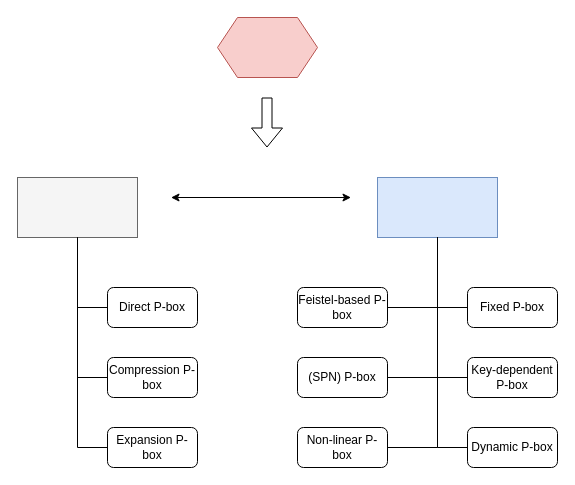
The diagram is 575 pixels wide and 485 high, and some of its shapes have lost their labels. Each missing label, with the centre of its shape:
Classification: the point at 77,207
P - box infographic: the point at 267,47
Variation: the point at 437,207
